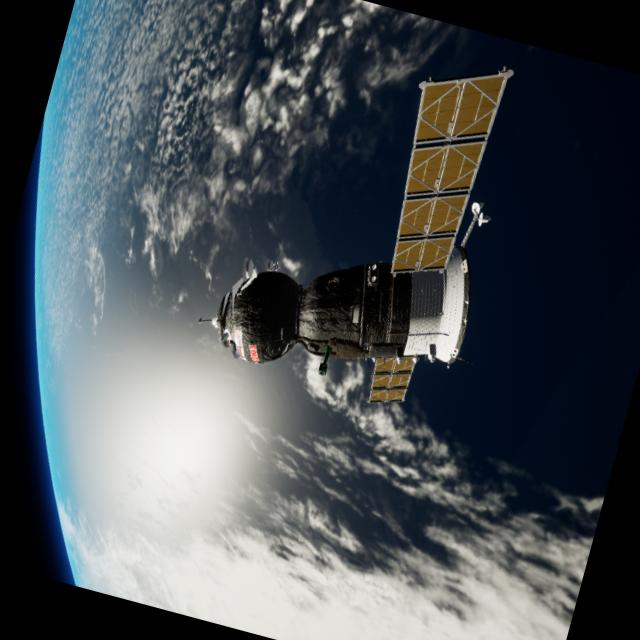Satellites revolving around earth: (188, 3, 540, 425)
